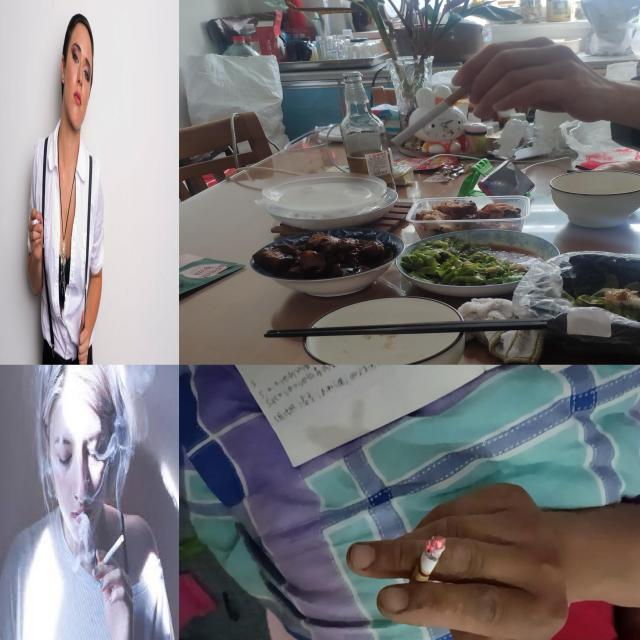smoke: (391, 80, 478, 146), (405, 534, 447, 593), (96, 534, 125, 572), (30, 218, 40, 227)
